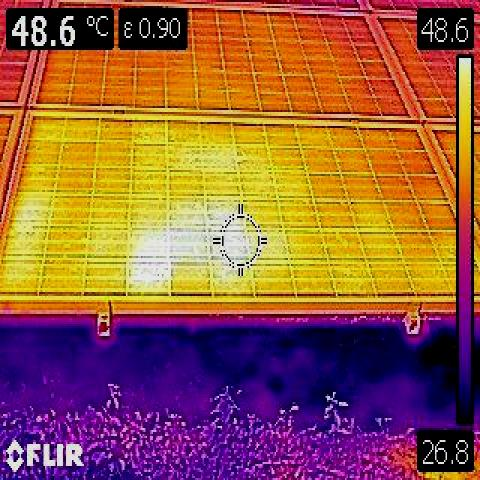fault: (129, 236, 171, 296)
